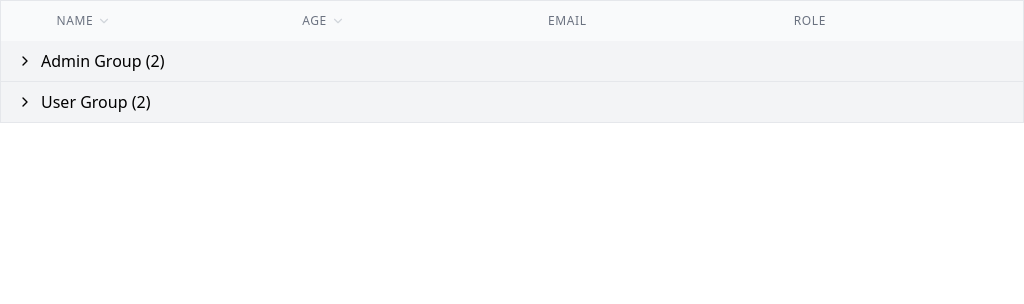
Test: DataTable › supports grouping data
Expected: the text "User Group (2)" is shown, [41, 90, 150, 114]
Expected: the text "Alice Smith" is not shown
# Expand Admin group
Click the text "Admin Group (2)" at {"x": 103, "y": 61}, box [41, 49, 164, 73]
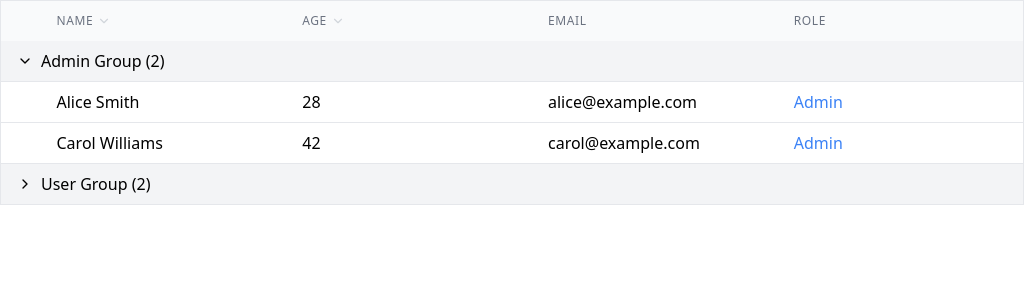
Expected: the text "Bob Johnson" is not shown
Expected: the text "Alice Smith" is shown, [40, 82, 286, 122]
Expected: the text "Carol Williams" is shown, [40, 122, 286, 164]
# Expand User group
Click the text "User Group (2)" at {"x": 96, "y": 184}, box [41, 172, 150, 196]
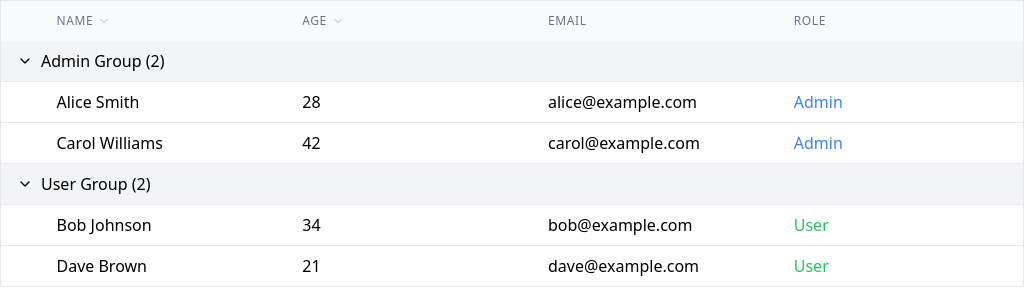
Expected: the text "Bob Johnson" is shown, [40, 204, 286, 246]
Expected: the text "Dave Brown" is shown, [40, 246, 286, 286]
